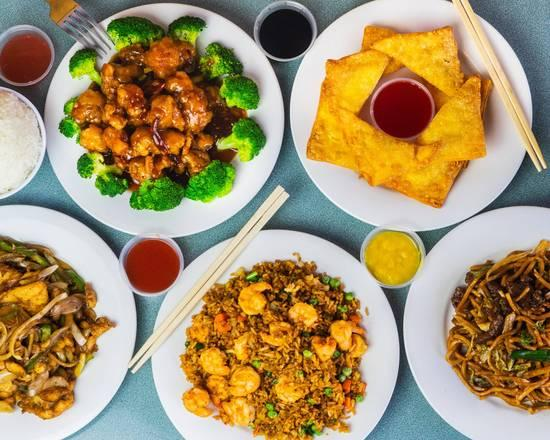Braised Crucian Carp: (45, 3, 285, 238), (290, 0, 532, 232), (153, 228, 399, 439)
